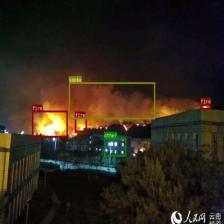fire: (32, 110, 67, 138), (74, 117, 86, 132), (200, 104, 211, 109)
smoke: (69, 82, 155, 119)
